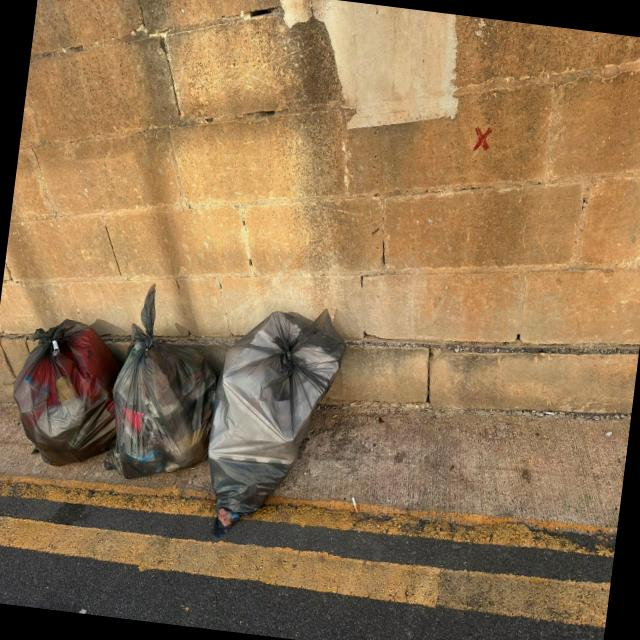black_bag: (200, 298, 350, 542), (102, 292, 226, 494), (0, 308, 130, 475)
